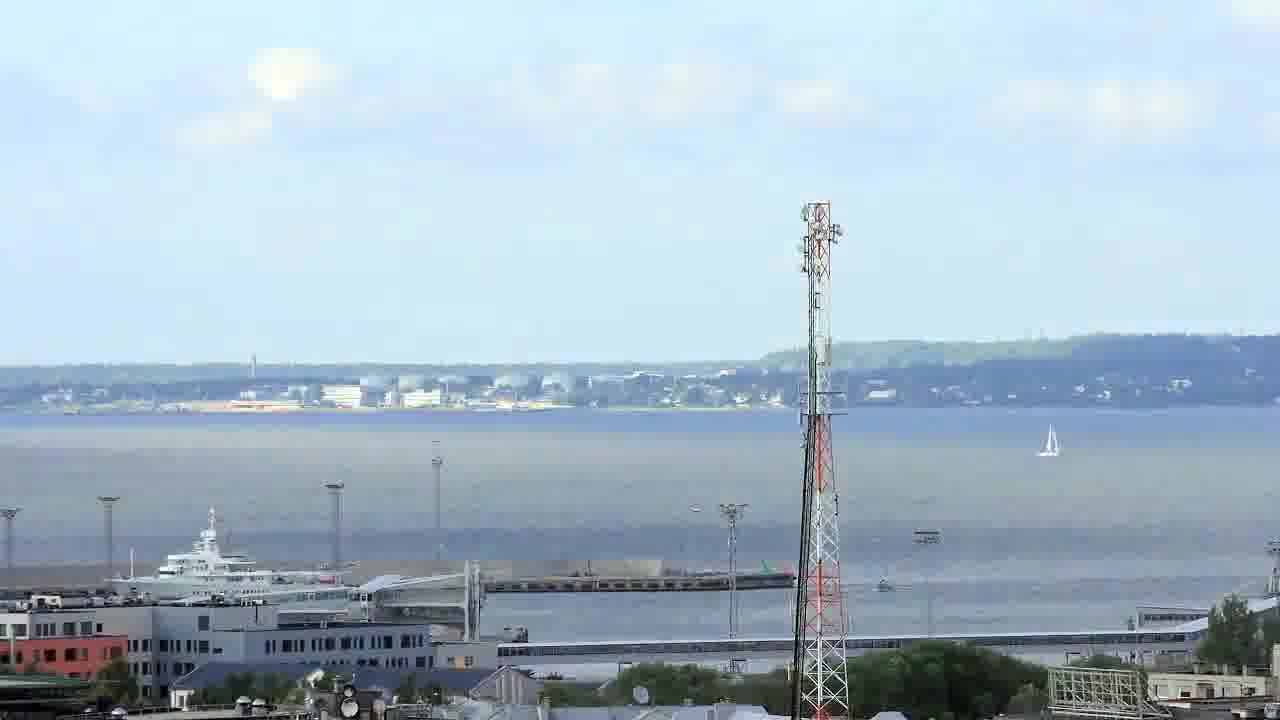type-0: (848, 558, 911, 606)
type-2: (1027, 408, 1082, 467)
type-3: (84, 515, 355, 603)
